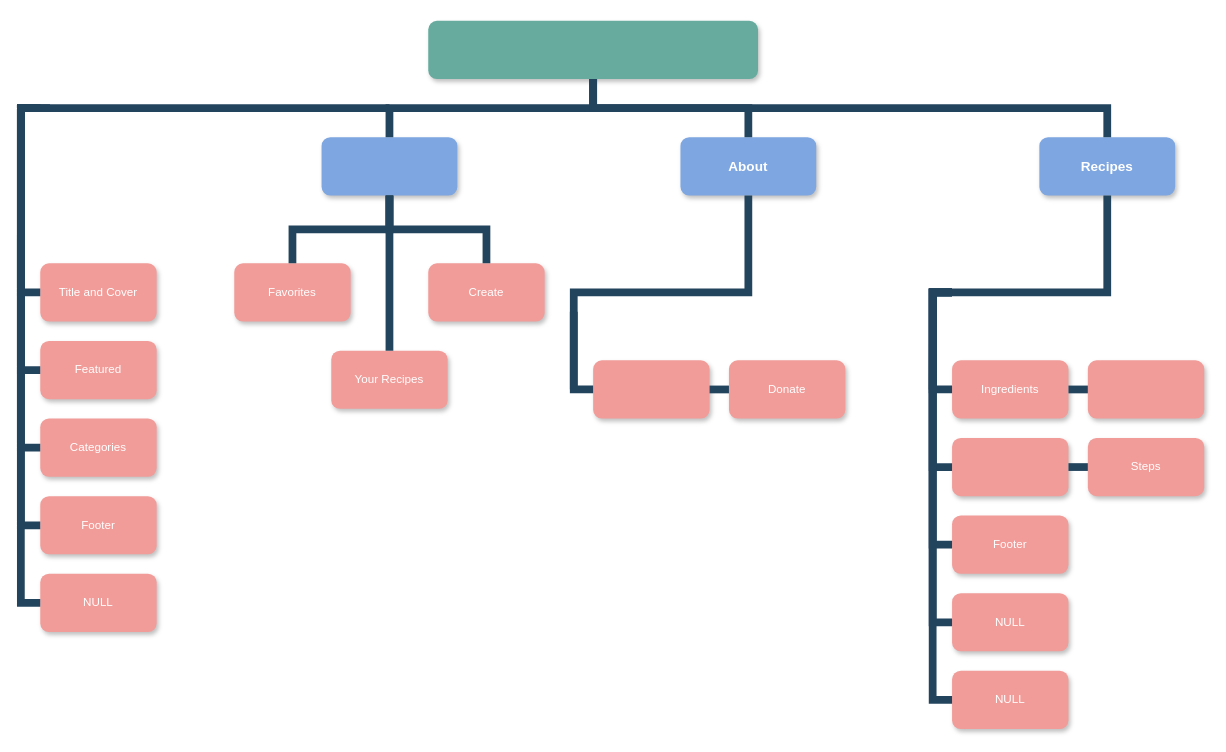
Image size: 1226x752. Some labels were removed from this diagram. Here are the shapes that lost their labels. From the top down, the centre of each, then its label:
(593,50): College Recipes: Home
(390,167): Profile
(652,390): Our Mission
(1146,390): Pictures
(1011,468): Recipe Widgets
